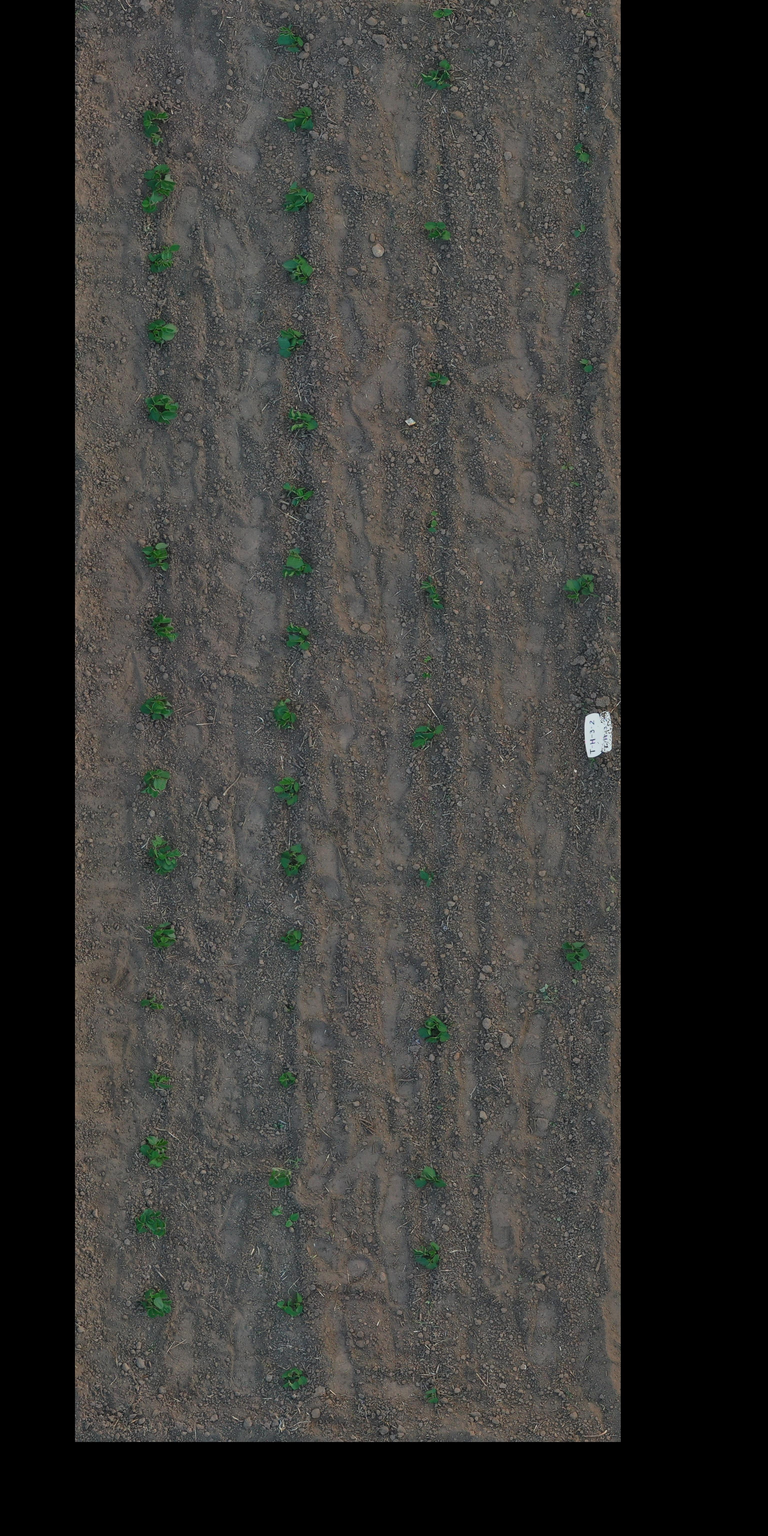s: (143, 769, 172, 791), (146, 173, 177, 192), (140, 701, 170, 720), (141, 190, 164, 214), (144, 395, 164, 422), (292, 106, 314, 130), (268, 1167, 293, 1188), (152, 1289, 173, 1314), (278, 116, 306, 134), (148, 835, 169, 859), (148, 1070, 174, 1089), (419, 1171, 448, 1188), (414, 1166, 436, 1188), (158, 849, 181, 870), (281, 194, 306, 212), (140, 1300, 165, 1318), (419, 69, 440, 90), (144, 1288, 164, 1310), (146, 1135, 169, 1154), (425, 1014, 448, 1033), (287, 407, 314, 423), (276, 24, 296, 45), (148, 410, 178, 424), (141, 542, 169, 557), (280, 327, 302, 346), (144, 164, 170, 180), (291, 490, 314, 508), (143, 114, 160, 138), (274, 698, 291, 722), (276, 1300, 300, 1317), (289, 418, 318, 432), (427, 370, 449, 388), (278, 336, 296, 358), (286, 547, 304, 569), (289, 854, 307, 876), (148, 1150, 170, 1168), (145, 694, 173, 708), (436, 58, 451, 84), (144, 548, 170, 563), (418, 1018, 437, 1038), (159, 394, 180, 412), (411, 732, 432, 750), (280, 842, 302, 859), (277, 776, 300, 792), (277, 705, 296, 724), (282, 482, 306, 497), (153, 858, 173, 876), (298, 261, 312, 286), (422, 724, 445, 739), (154, 928, 177, 943), (142, 1208, 157, 1231), (573, 142, 590, 162), (154, 319, 178, 333), (154, 1216, 168, 1240), (150, 613, 172, 628), (284, 264, 302, 282), (280, 788, 298, 806), (420, 575, 437, 594), (415, 1256, 438, 1270), (288, 180, 308, 196), (294, 192, 314, 208), (136, 1212, 151, 1233), (143, 110, 169, 122), (155, 244, 181, 256), (282, 256, 306, 269), (286, 637, 310, 650), (566, 948, 590, 961), (152, 936, 174, 950), (428, 590, 444, 609), (280, 857, 295, 877), (561, 940, 586, 952), (425, 1031, 450, 1043), (140, 783, 160, 798), (154, 330, 175, 344), (279, 1071, 296, 1088), (427, 228, 451, 240), (419, 870, 435, 888), (576, 577, 591, 596), (147, 253, 161, 273), (562, 578, 582, 592), (153, 625, 174, 638), (289, 930, 302, 951), (428, 1242, 440, 1264), (281, 566, 301, 579), (158, 256, 174, 272), (566, 588, 582, 604), (274, 784, 291, 799), (412, 1245, 429, 1260), (149, 559, 170, 571), (568, 281, 583, 297), (566, 956, 582, 971), (140, 993, 157, 1007), (140, 1144, 154, 1161), (295, 1368, 308, 1386), (430, 80, 453, 90), (293, 1291, 303, 1314), (148, 322, 160, 341), (582, 574, 594, 593), (424, 1388, 438, 1404), (277, 719, 295, 731), (153, 922, 171, 934), (164, 628, 179, 642), (281, 1367, 297, 1380), (283, 1378, 300, 1390), (432, 8, 452, 18), (152, 186, 170, 197), (292, 625, 310, 636), (285, 1213, 299, 1227), (573, 223, 586, 238), (579, 358, 592, 373), (423, 222, 446, 230), (150, 133, 164, 146), (414, 723, 434, 732), (284, 927, 294, 944), (299, 562, 314, 573), (149, 1000, 164, 1010), (280, 936, 296, 945), (161, 708, 174, 719), (296, 333, 305, 348), (286, 42, 299, 52), (428, 520, 438, 532), (157, 1074, 170, 1083), (294, 36, 304, 47), (286, 621, 295, 632), (421, 672, 431, 679), (423, 655, 431, 663), (287, 1297, 293, 1307), (146, 924, 154, 930), (584, 12, 592, 17), (298, 941, 302, 946)
